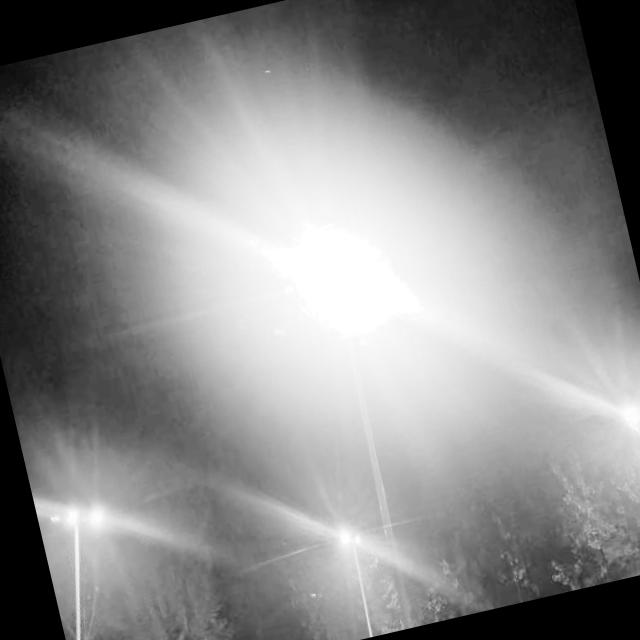Light: (243, 173, 509, 640), (34, 491, 145, 640), (326, 513, 392, 640), (605, 384, 640, 573)
